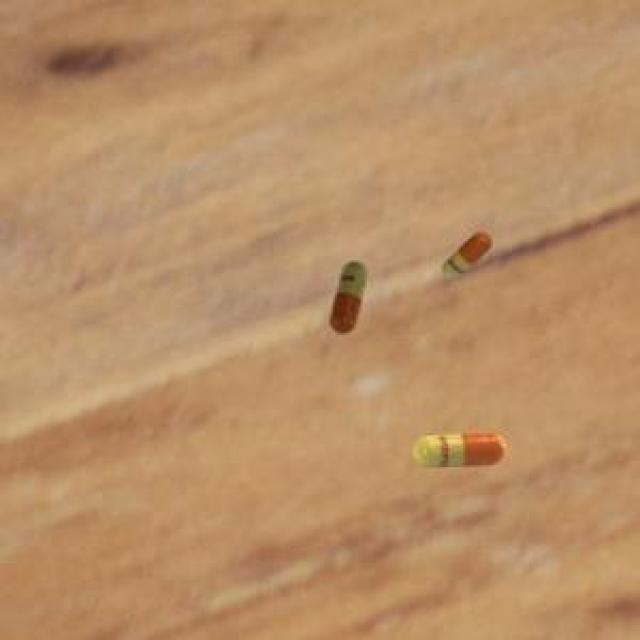Alaxan: (407, 419, 515, 473), (322, 252, 374, 342), (438, 222, 495, 294)
